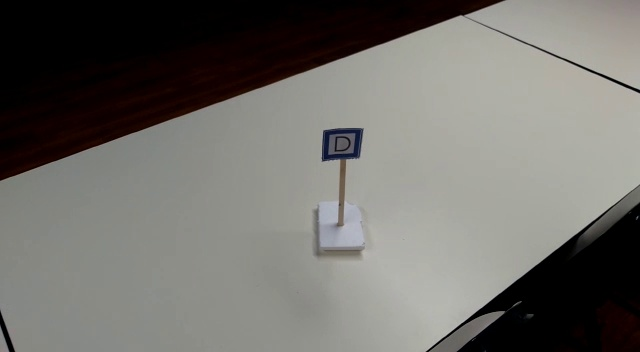durak: (322, 127, 363, 162)
